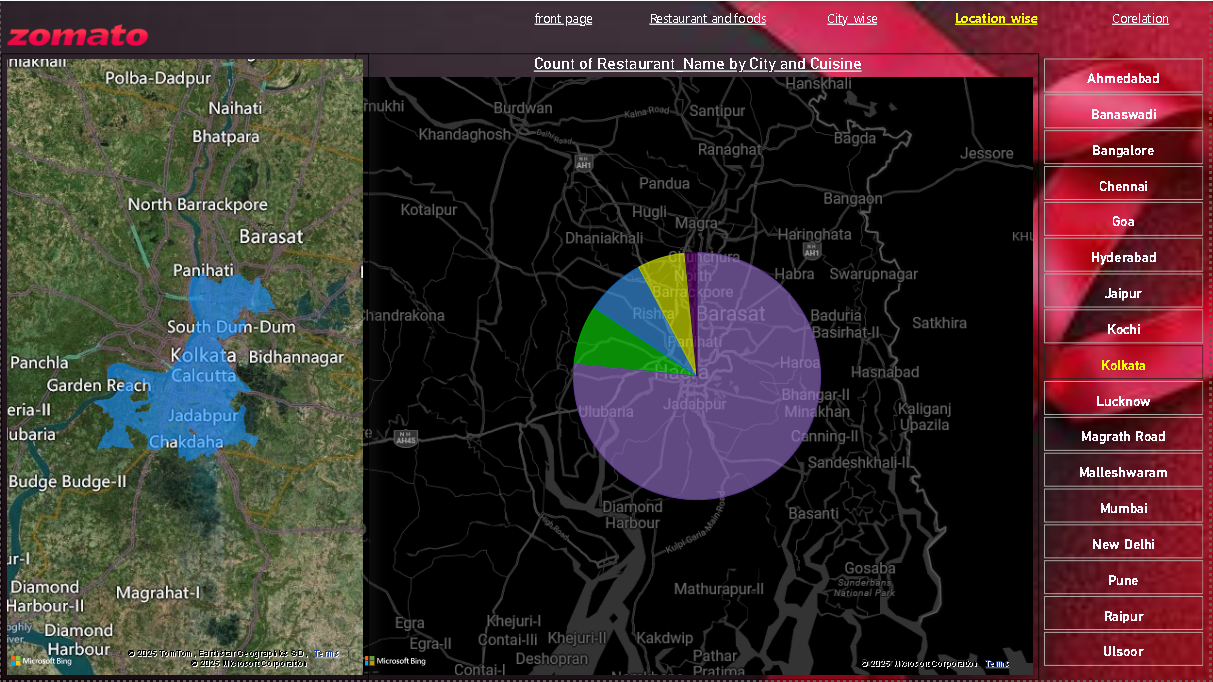

This screenshot's page, from the dashboard's own definition file:
{"tool":"powerbi","page":{"name":"Location_wise","canvas":[1280,720],"ordinal":3},"visuals":[{"type":"map","fields":{"Size":["Count(zomato_dataset.Restaurant_Name)"],"Category":["zomato_dataset.City"],"Series":["zomato_dataset.Cuisine "]},"box":[375.4,55.7,725.3,664.9],"z":0},{"type":"advancedSlicerVisual","fields":{"Values":["zomato_dataset.City"]},"box":[1100.7,55.7,179.7,664.9],"z":1000},{"type":"filledMap","fields":{"Category":["zomato_dataset.City"]},"box":[0,55.7,389.7,664.9],"z":2000},{"type":"image","box":[0,0,162.2,71.6],"z":3000},{"type":"pageNavigator","box":[524.9,0,755.5,35],"z":4000}]}

Visuals, with their boxes on the page's 1280x720 design canvas (x1, y1, x2, y2). These are canvas units, not pixel positions in the 1213x682 screenshot, which may show the page scaled, cropped or inside an application window:
map - Count(zomato_dataset.Restaurant_Name) x zomato_dataset.City: [x1=375, y1=56, x2=1101, y2=721]
advancedSlicerVisual - zomato_dataset.City: [x1=1101, y1=56, x2=1280, y2=721]
filledMap - zomato_dataset.City: [x1=0, y1=56, x2=390, y2=721]
image: [x1=0, y1=0, x2=162, y2=72]
pageNavigator: [x1=525, y1=0, x2=1280, y2=35]
